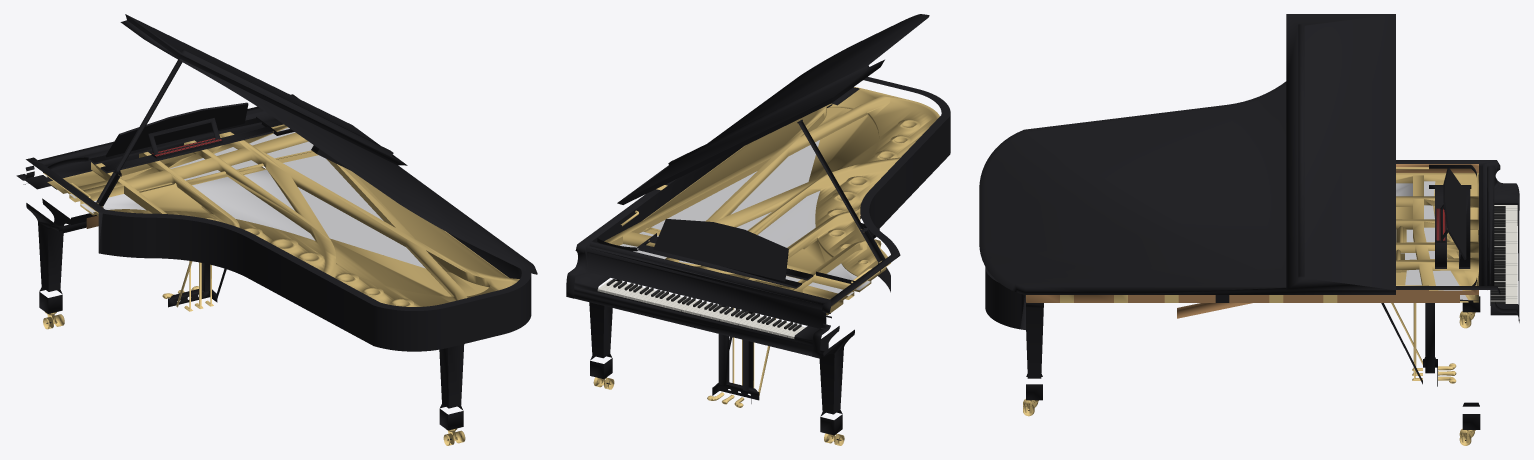
Rendered from grand-piano.glb.
The picture shows the model from 3 angles, left to right: view 1: azimuth 30°, elevation 25°; view 2: azimuth 150°, elevation 25°; view 3: azimuth 270°, elevation 25°; orthographic projection. The views are drawn at different scales.
Parts seen in each view (by area): view 1: grand_piano; view 2: grand_piano; view 3: grand_piano.
Boxes of the visible parts, left/top/right/bottom form: grand_piano: left=16, top=14, right=537, bottom=445; grand_piano: left=566, top=14, right=950, bottom=445; grand_piano: left=979, top=14, right=1519, bottom=445.
Bounding box in the file's own units: 1.62 × 1.85 × 2.77.
